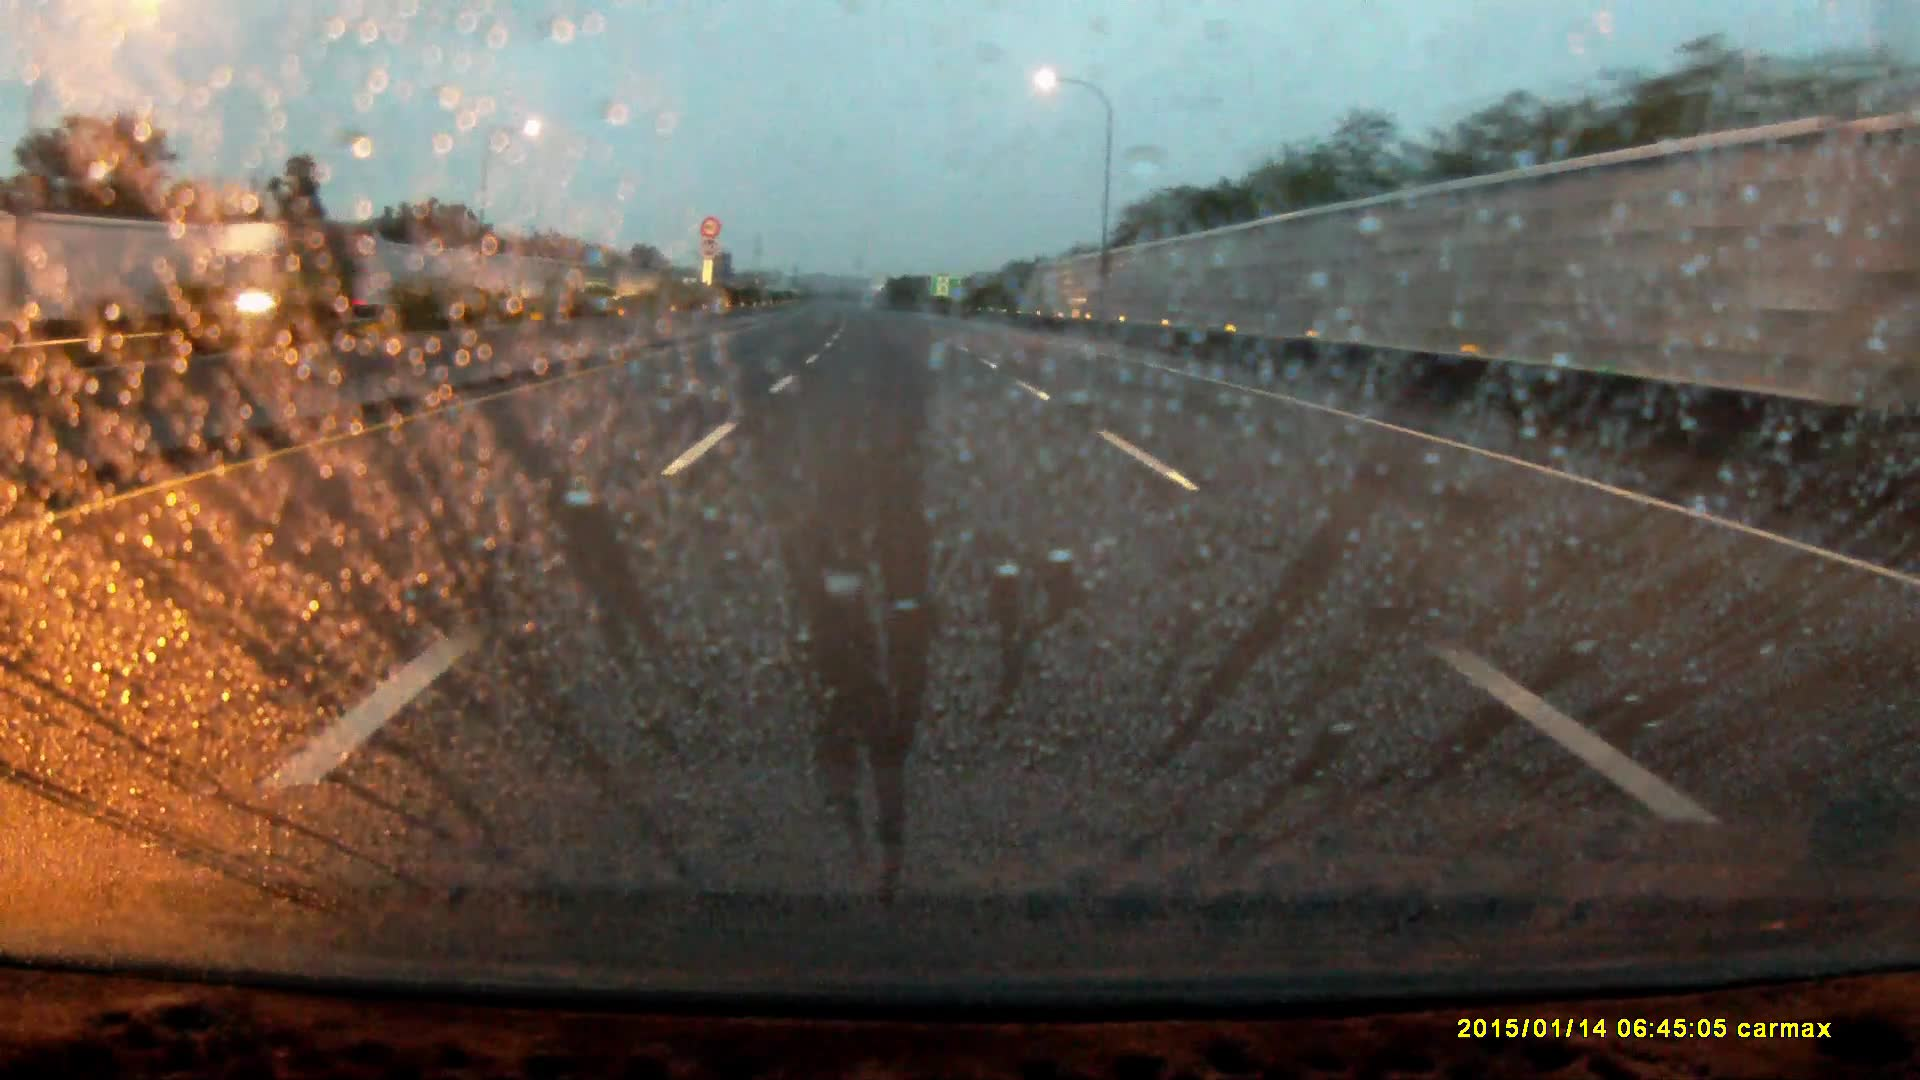vehicle: (195, 216, 365, 328)
